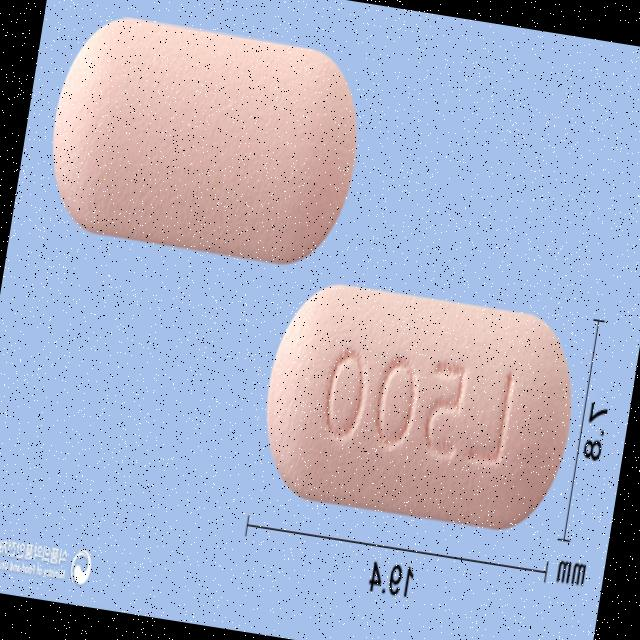Levoby: (251, 272, 587, 538)
